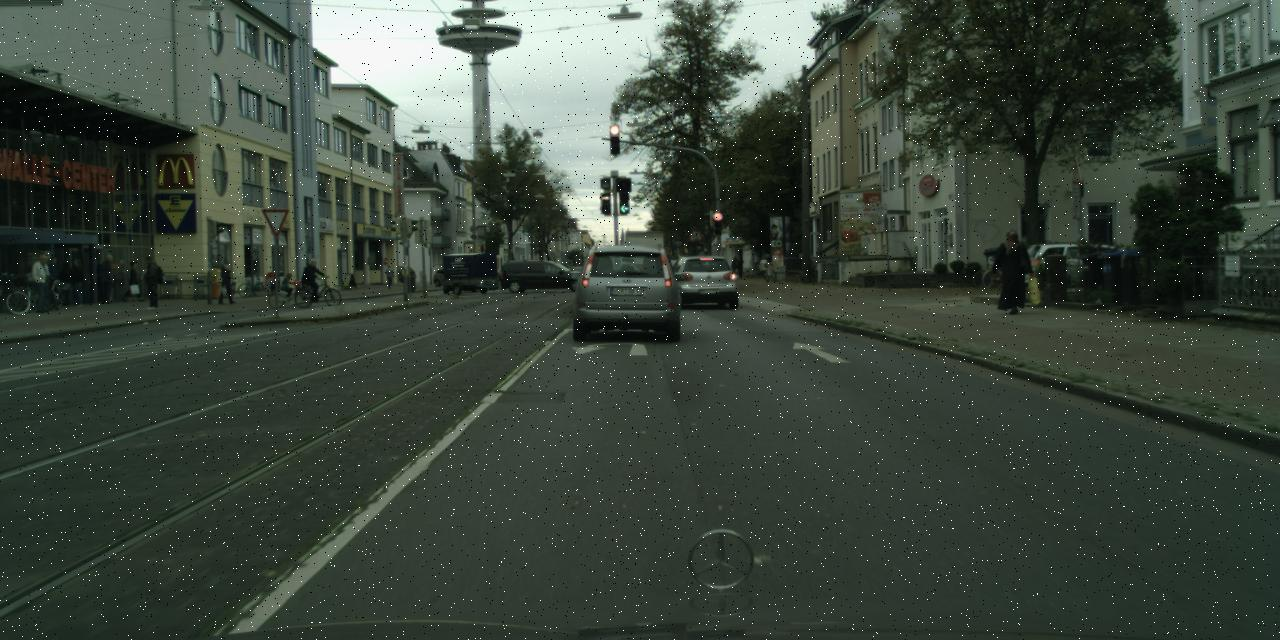ped: (997, 228, 1031, 313), (32, 254, 54, 312), (140, 257, 160, 307), (98, 254, 118, 303), (68, 259, 86, 305), (44, 257, 62, 302), (57, 262, 74, 304), (218, 261, 235, 303), (125, 260, 141, 300), (304, 258, 320, 296), (280, 271, 292, 301), (731, 256, 743, 278), (383, 264, 392, 288)
